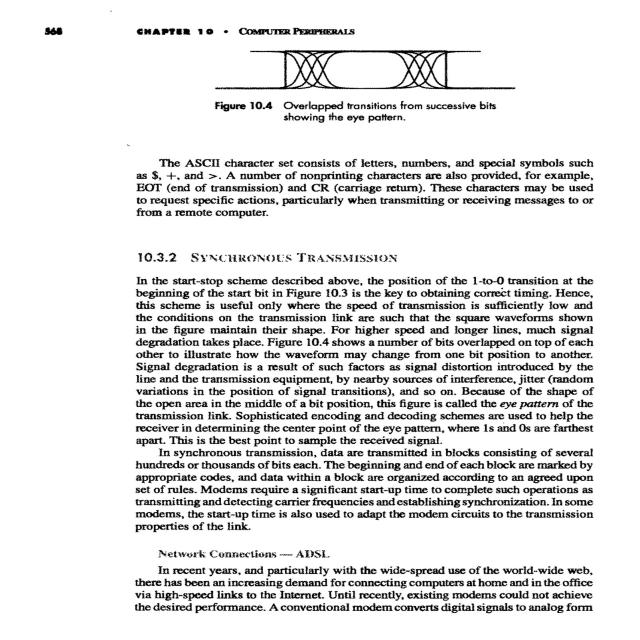diagram: (120, 46, 626, 144)
